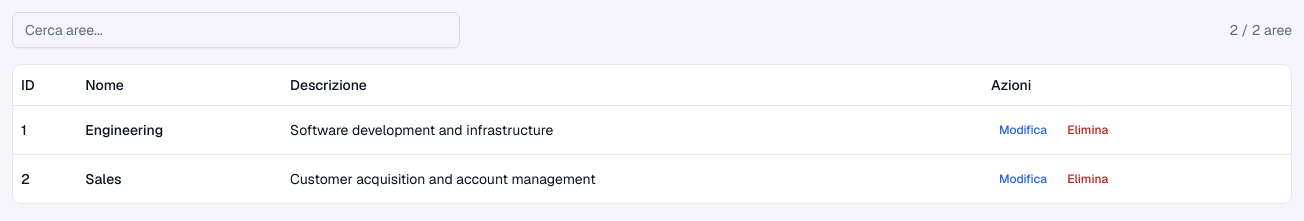
Test case: BusinessAreaTable › filters areas by name on search
In the field named "cerca aree di business": (236, 30) [12,12,460,48], type "Engineering"
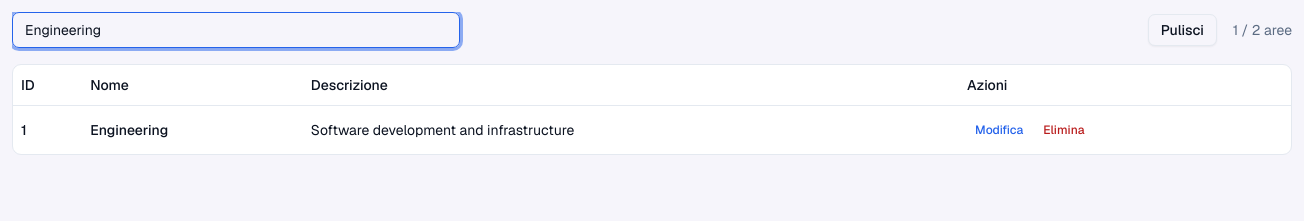
Expected: the text "Engineering" is shown, [82,105,303,154]
Now the text "Sales" is gone
